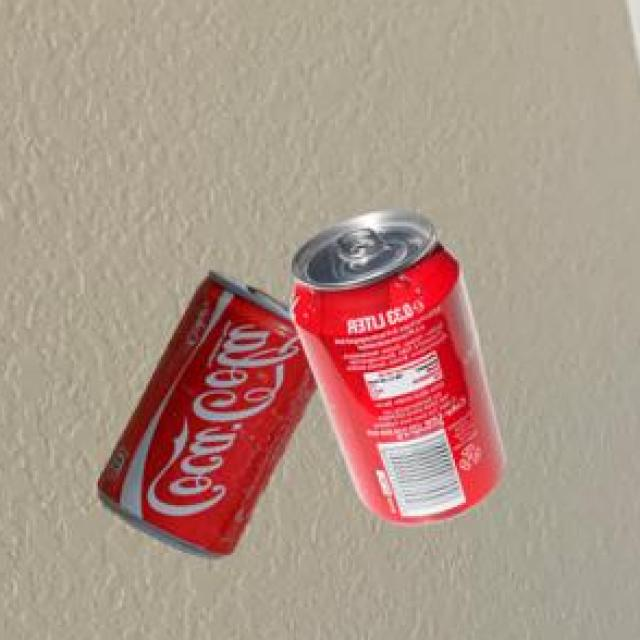logam: (295, 208, 508, 521), (101, 269, 321, 556)
